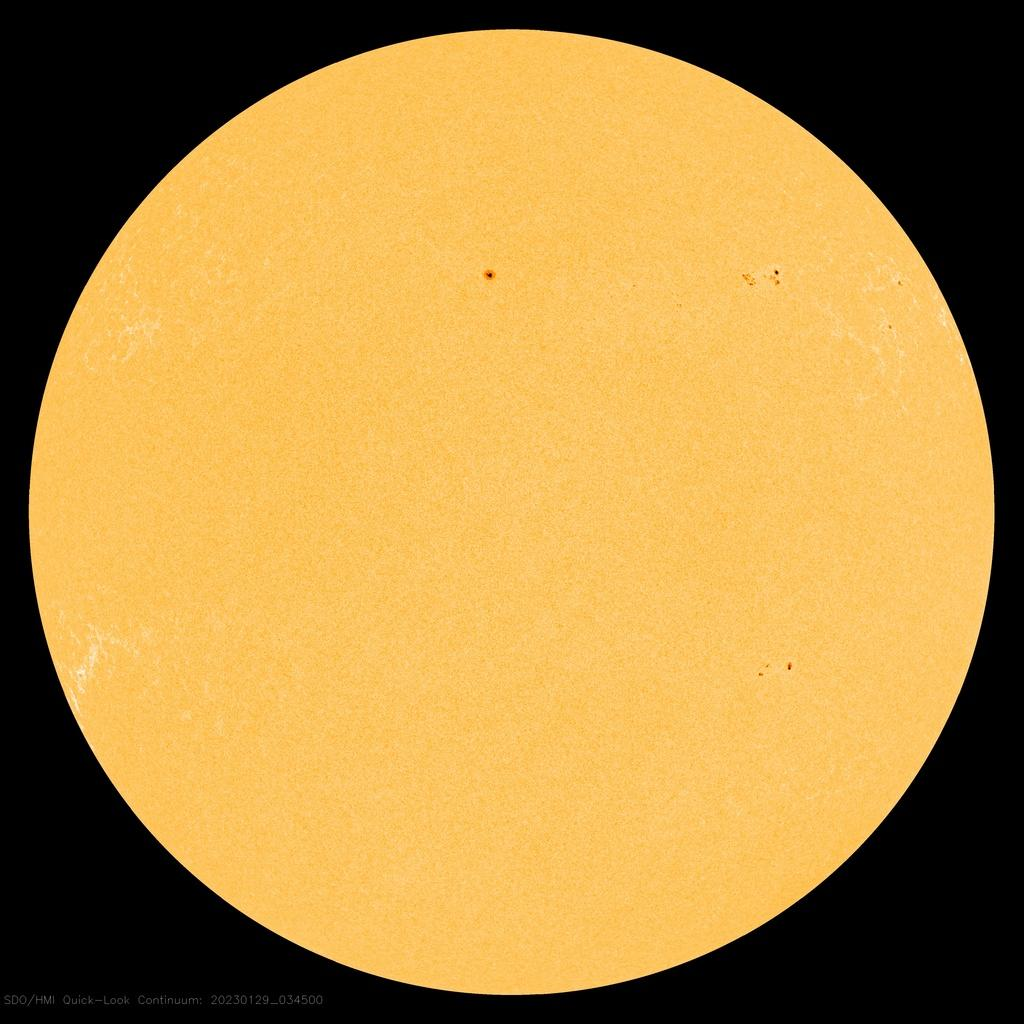flare: (734, 257, 795, 296), (750, 651, 804, 686), (472, 252, 510, 294)
